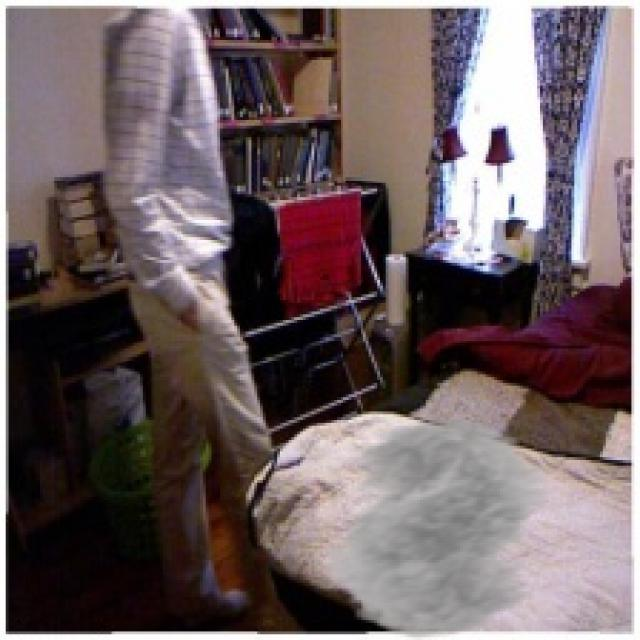smoke: (303, 417, 583, 637)
